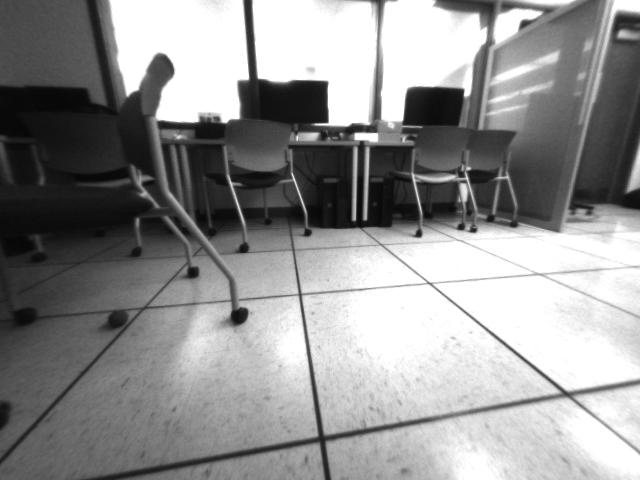dogtoy: (101, 301, 133, 329)
